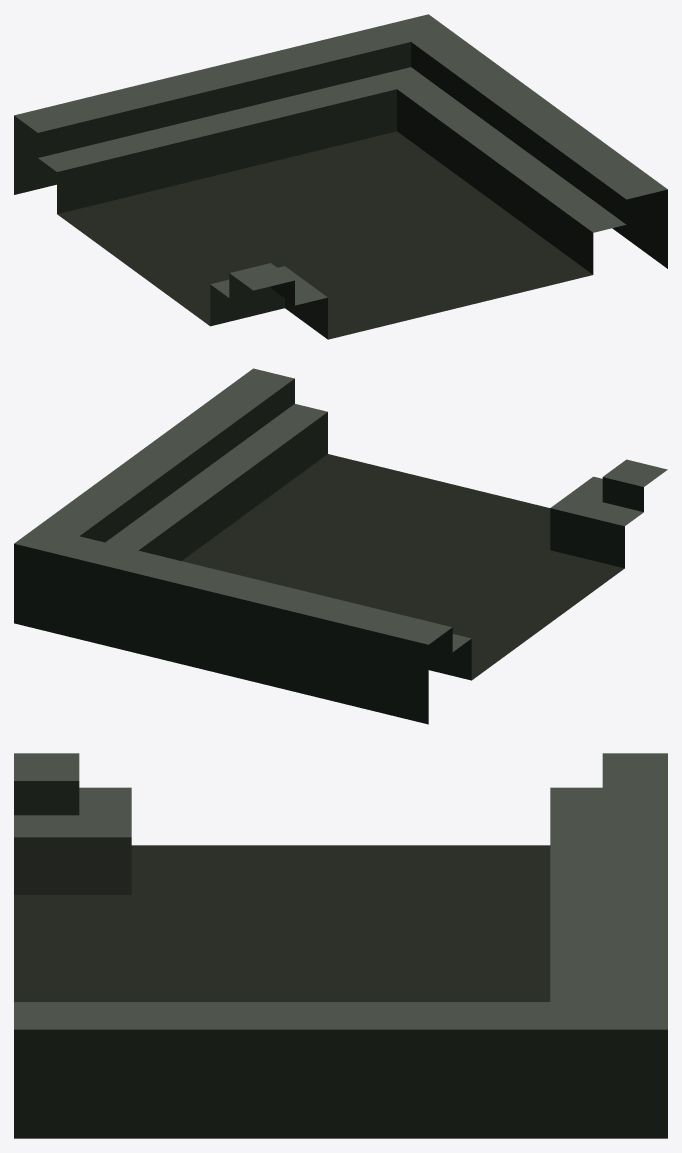
The model's file is SF_Bld_Elven_Stream_Corner_01.glb.
3 views of the same model, one above another, from view 1: azimuth 30°, elevation 25°; view 2: azimuth 150°, elevation 25°; view 3: azimuth 270°, elevation 25° (orthographic). The views are drawn at different scales.
Parts seen in each view (by area): view 1: SF_Env_Elven_Stream_Corner_01; view 2: SF_Env_Elven_Stream_Corner_01; view 3: SF_Env_Elven_Stream_Corner_01.
Part boxes in pixels (bbox=[...]): SF_Env_Elven_Stream_Corner_01: bbox=[14, 14, 667, 339]; SF_Env_Elven_Stream_Corner_01: bbox=[14, 368, 667, 724]; SF_Env_Elven_Stream_Corner_01: bbox=[14, 753, 667, 1138].
Bounding box in the file's own units: 0.03 × 0.00551 × 0.03.
Materials: 1 (1 with a texture image).
